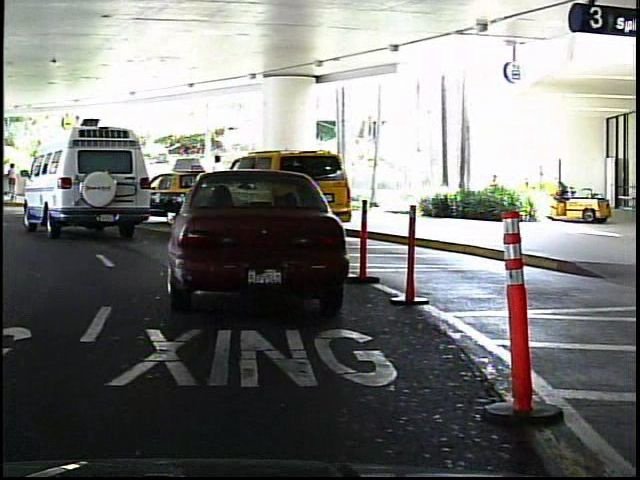person: (206, 150, 232, 212), (41, 157, 59, 200), (5, 159, 21, 201)
